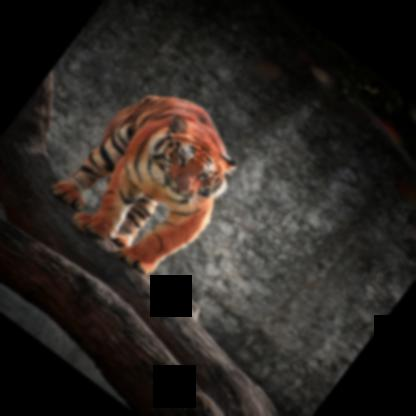Panthera tigris: (37, 61, 262, 292)
